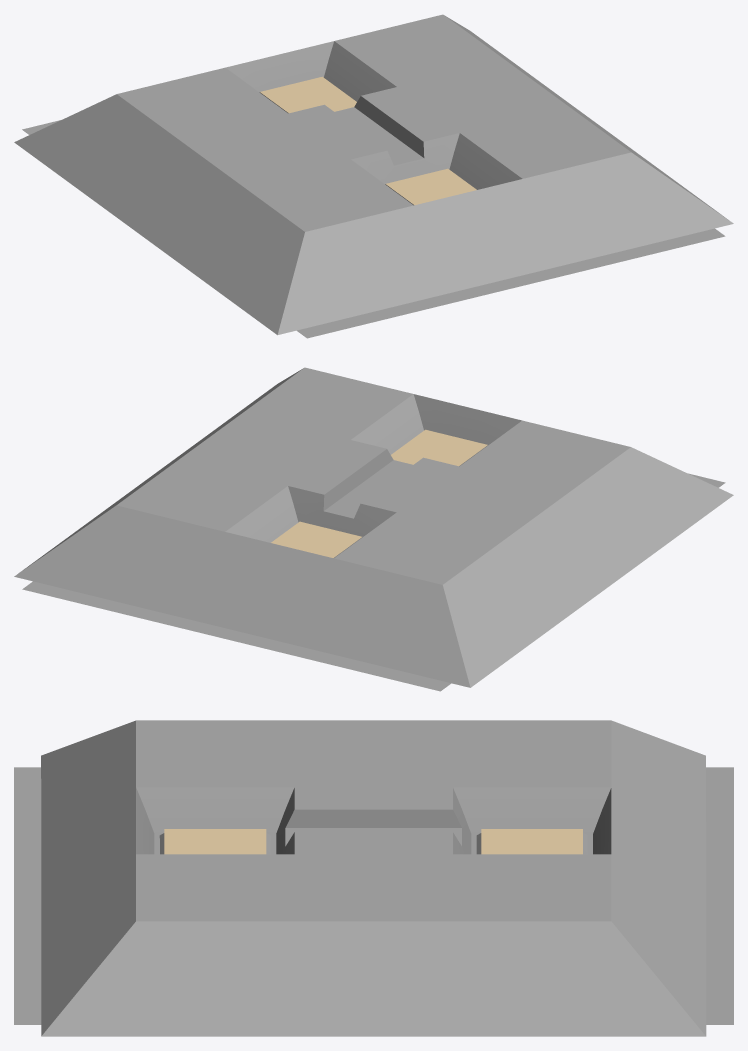
The model's file is HallwayStraightCeilingNoPipes.fbx.
3 renders of one model, top to bottom at view 1: azimuth 30°, elevation 25°; view 2: azimuth 150°, elevation 25°; view 3: azimuth 270°, elevation 25°, orthographic. The views are drawn at different scales.
Visible parts, largest first — view 1: polySurface416; view 2: polySurface416; view 3: polySurface416.
Part boxes in pixels (x1=…): polySurface416: x1=14, y1=14, x2=733, y2=338; polySurface416: x1=14, y1=367, x2=733, y2=691; polySurface416: x1=14, y1=720, x2=733, y2=1036.
Size of the model in its own units: 23.99 by 3 by 25.98.
